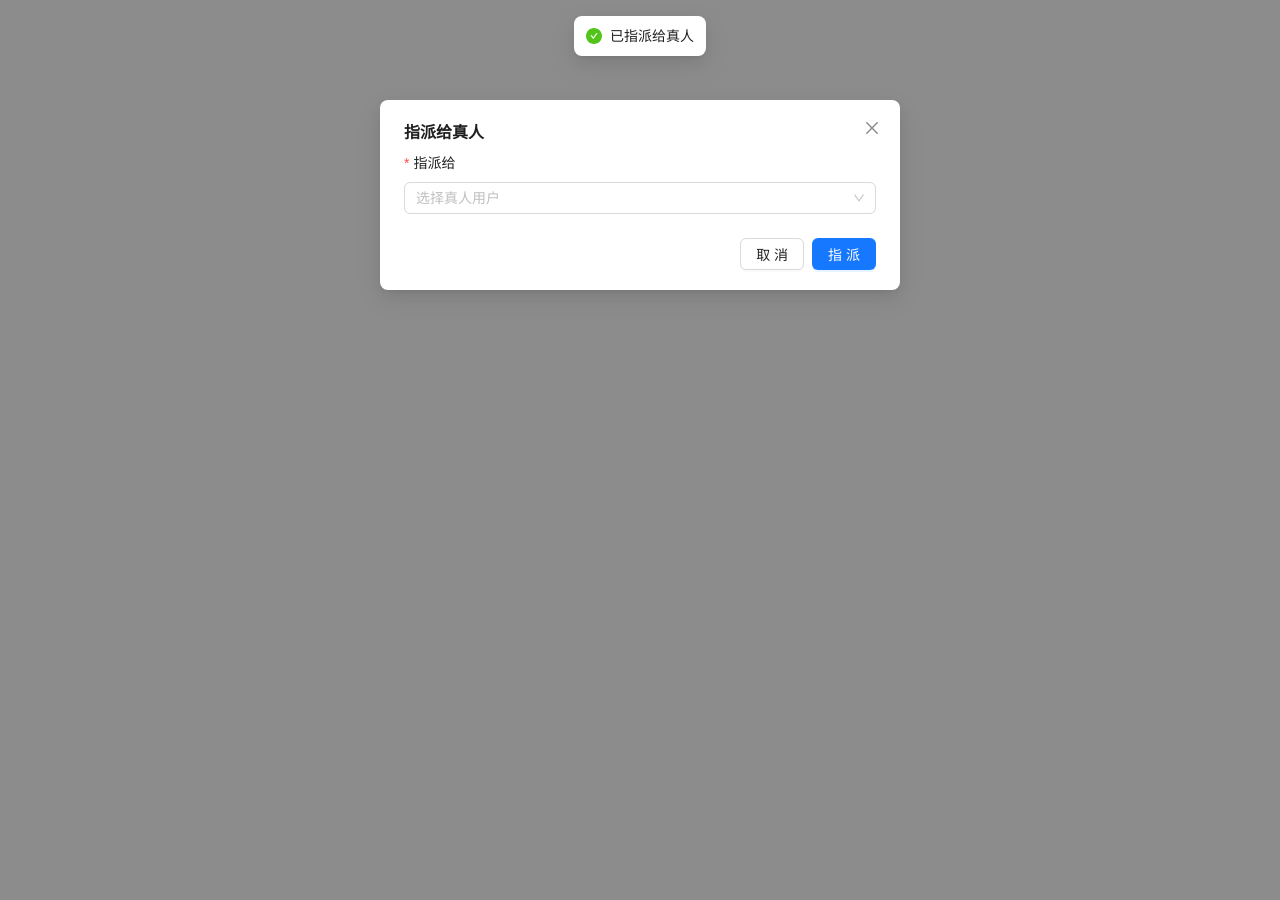
AssignHumanModal › requires selecting a user before submitting
Click the button "指 派" at [844, 254], box [812,238,876,270]
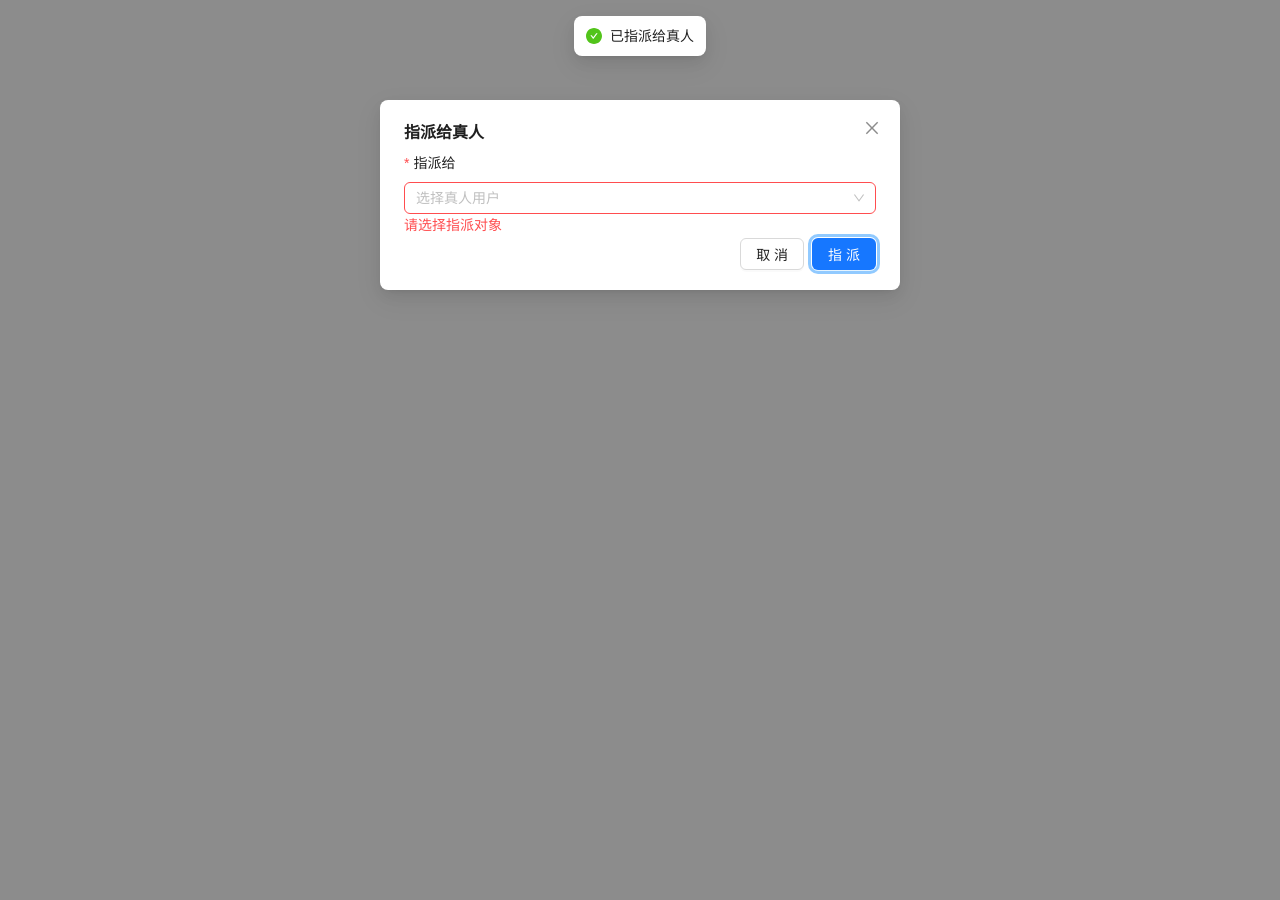
Expected: the text "请选择指派对象" is shown, [404,216,502,233]
